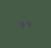eight: (19, 20, 24, 28)
four: (25, 20, 30, 27)
